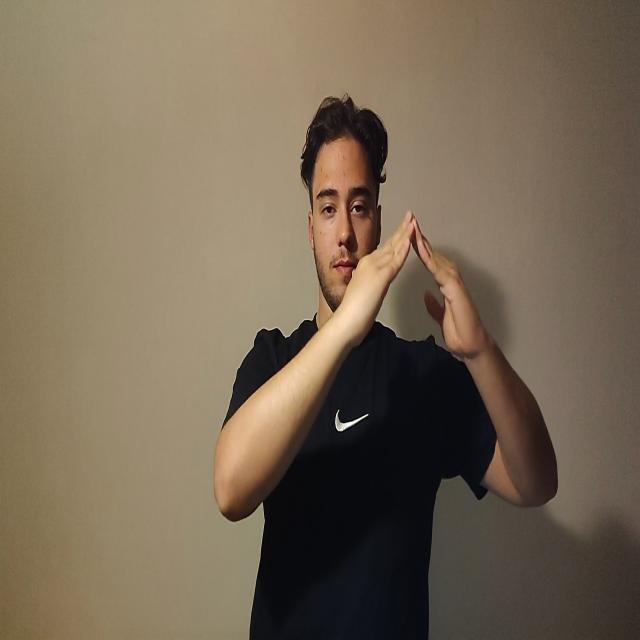house: (346, 214, 480, 368)
